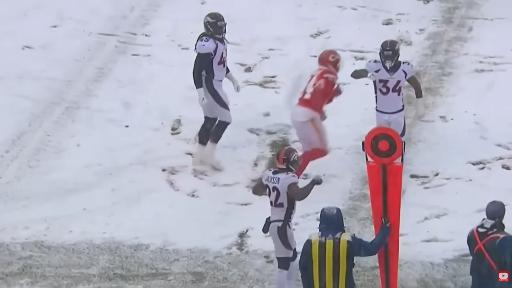Helmet: (275, 147, 299, 171), (204, 12, 226, 38), (380, 40, 399, 68), (318, 50, 341, 73)
Jersey: (366, 60, 414, 113), (262, 170, 298, 221), (298, 68, 337, 114), (195, 35, 227, 81)
Player: (253, 147, 322, 287), (193, 13, 240, 170), (351, 40, 422, 137), (292, 50, 342, 177)
